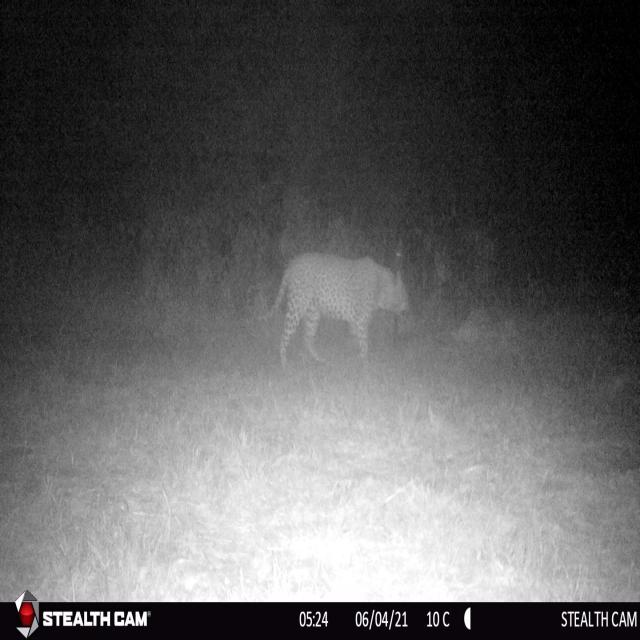Leopard: (255, 253, 409, 361)
